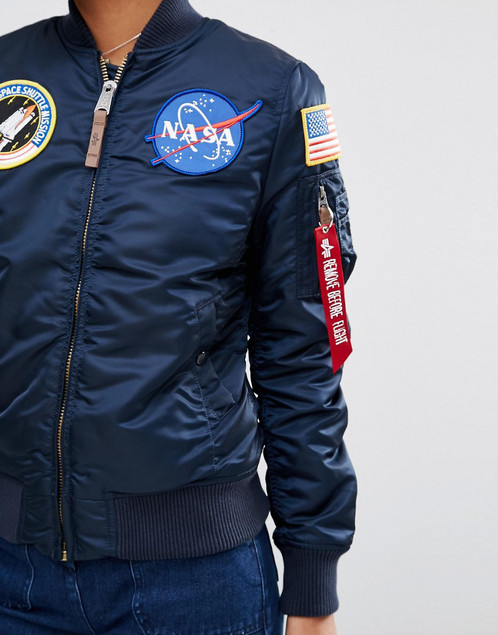NASA: (145, 87, 260, 175)
